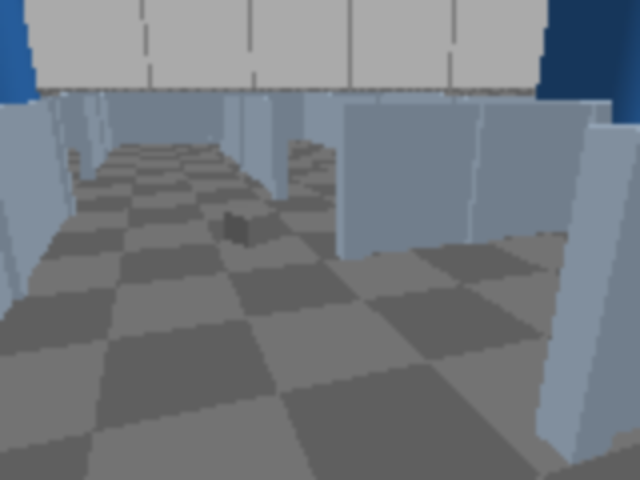person: (0, 0, 52, 181)
